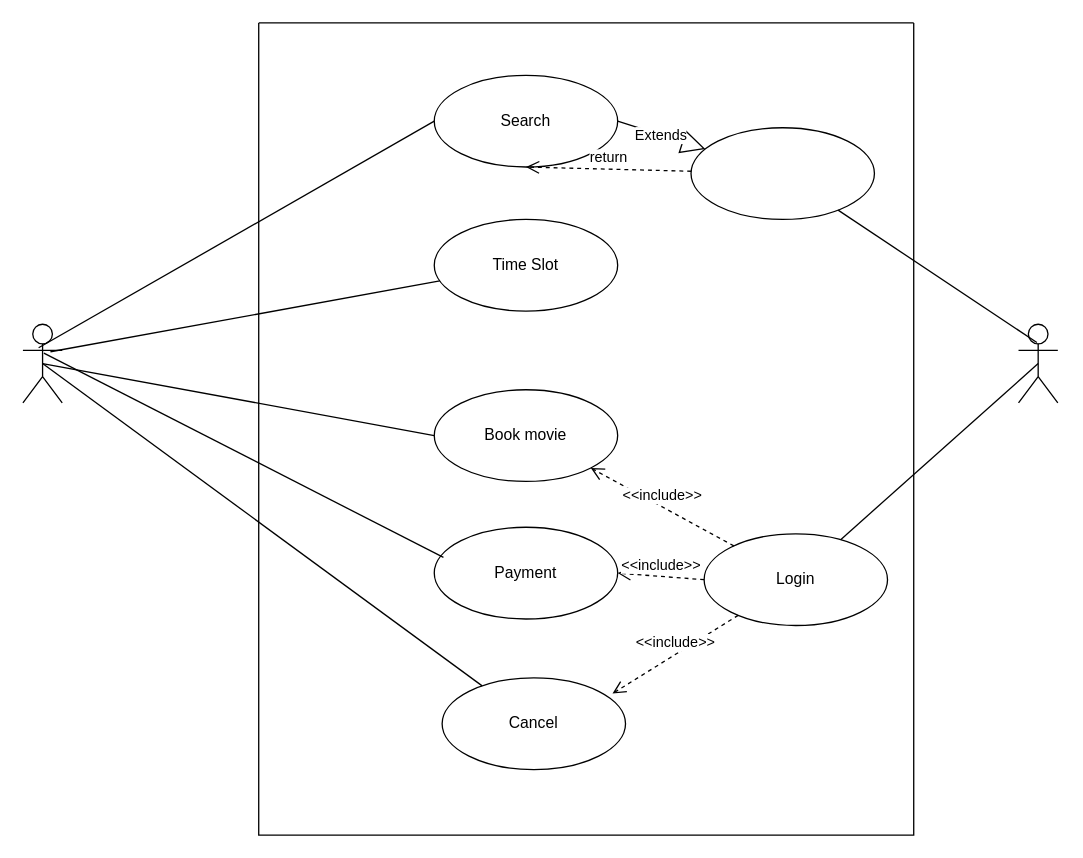
This 1083x858 diagram has some shape labels left out. The shapes that lost their labels are listed below. From the top down, each one's box as (x1, y1, x2, y2) in pixels, then its label:
(690, 126, 874, 219): Language
(22, 323, 62, 403): User
(1017, 323, 1058, 403): Admin
